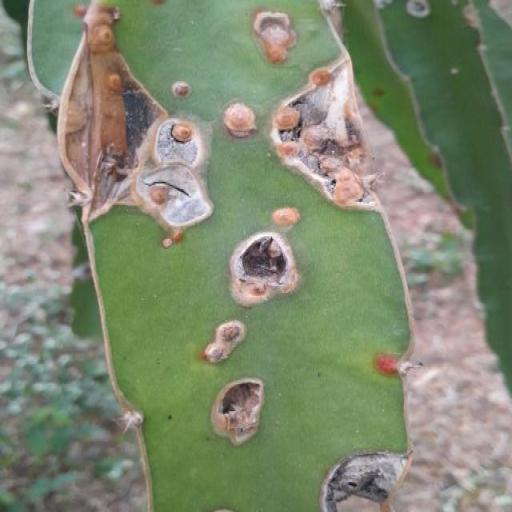stemcanker: (270, 198, 303, 233), (156, 226, 189, 254), (170, 76, 197, 102)
